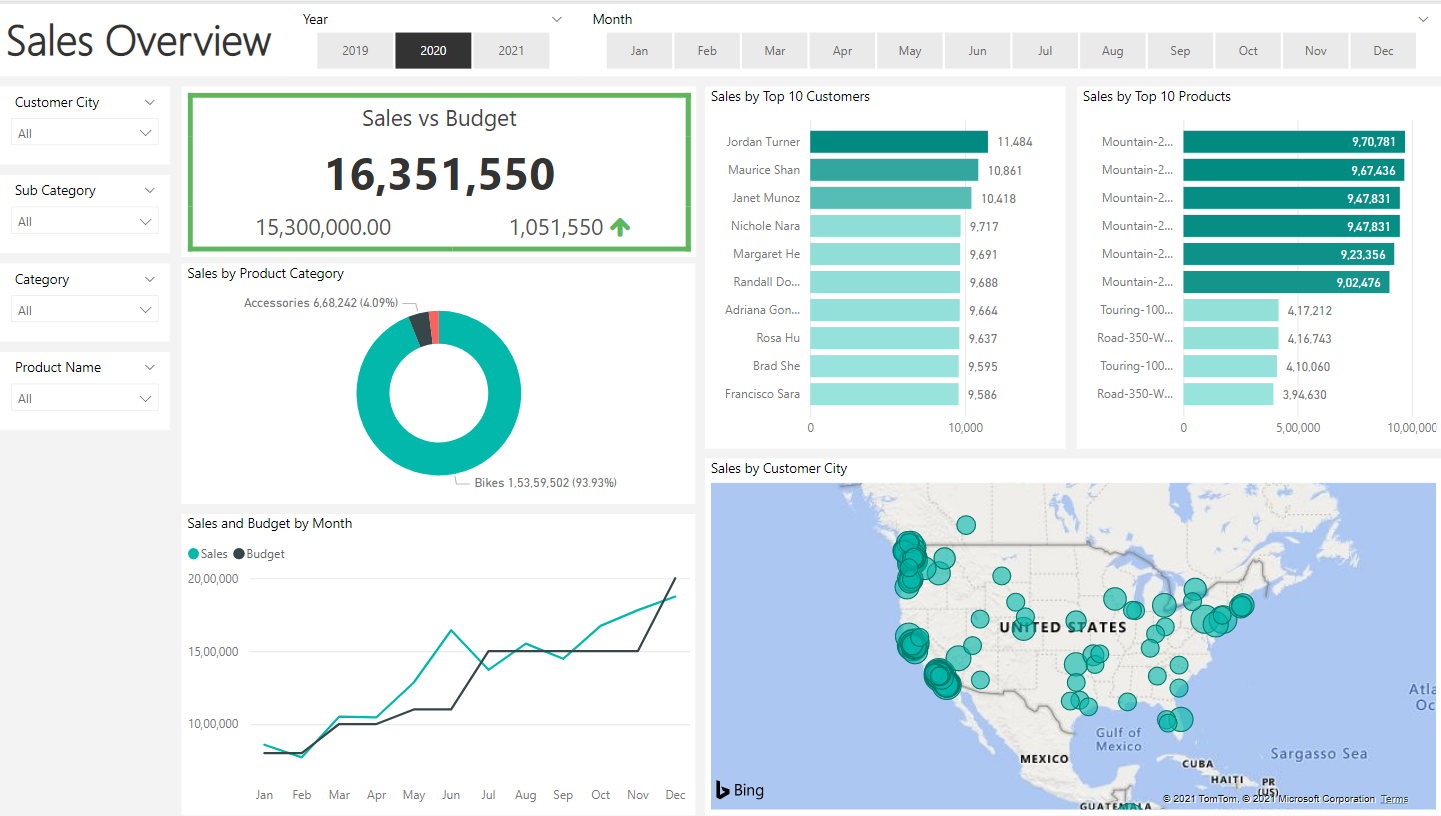

Layout of this report page (visuals, bound fields, positions):
{"tool":"powerbi","page":{"name":"Sales Overview","canvas":[1280,720],"ordinal":0},"visuals":[{"type":"textbox","box":[0,0,1280,64],"z":0},{"type":"slicer","fields":{"Values":["DIM_Calendar.Year"]},"box":[256,0,256,64],"z":1000},{"type":"slicer","fields":{"Values":["DIM_Calendar.MonthShort"]},"box":[512,0,768,64],"z":2000},{"type":"slicer","fields":{"Values":["DIM_Customers.Customer City"]},"box":[0,73,150.5,69.3],"z":3000},{"type":"slicer","fields":{"Values":["DIM_Products.Product Category"]},"box":[0,229.9,150.5,69.3],"z":4000},{"type":"slicer","fields":{"Values":["DIM_Products.Product Name"]},"box":[0,308.4,150.5,69.3],"z":5000},{"type":"slicer","fields":{"Values":["DIM_Products.Sub Category"]},"box":[0,151.4,150.5,69.3],"z":6000},{"type":"barChart","title":"Sales by Top 10 Products","fields":{"Category":["DIM_Products.Product Name"],"Y":["Analysis Metrics.Sales"]},"box":[955.2,73,324.8,321.1],"z":7000},{"type":"lineChart","fields":{"Category":["DIM_Calendar.MonthShort"],"Y":["Analysis Metrics.Sales","Analysis Metrics.Budget"]},"box":[160.7,452.8,456.3,267.2],"z":8000},{"type":"barChart","title":"Sales by Top 10 Customers","fields":{"Category":["DIM_Customers.Full Name"],"Y":["Analysis Metrics.Sales"]},"box":[625.9,73,320.2,321.1],"z":9000},{"type":"donutChart","fields":{"Y":["Analysis Metrics.Sales"],"Series":["DIM_Products.Product Category"]},"box":[160.6,229.9,456.2,213.5],"z":10000},{"type":"map","fields":{"Category":["DIM_Customers.Customer City"],"Size":["Analysis Metrics.Sales"]},"box":[625.9,403.3,654.1,316.6],"z":12000},{"type":"BBED0A4D4D8D44CE93CF2DAFADEE466C","fields":{"actual":["Analysis Metrics.Sales"],"target2":["Analysis Metrics.Sales / Budget"],"target1":["Analysis Metrics.Budget"]},"box":[160.5,73.4,456.6,151.3],"z":13001}]}

Visuals, with their boxes in screenshot pixels (x1, y1, x2, y2), scaled from the page's 1280x720 canvas onto the 1441x816 screenshot:
textbox: select_region(0, 0, 1440, 73)
slicer - DIM_Calendar.Year: select_region(288, 0, 576, 73)
slicer - DIM_Calendar.MonthShort: select_region(576, 0, 1440, 73)
slicer - DIM_Customers.Customer City: select_region(0, 83, 169, 161)
slicer - DIM_Products.Product Category: select_region(0, 261, 169, 339)
slicer - DIM_Products.Product Name: select_region(0, 350, 169, 428)
slicer - DIM_Products.Sub Category: select_region(0, 172, 169, 250)
"Sales by Top 10 Products" barChart: select_region(1075, 83, 1440, 447)
lineChart - DIM_Calendar.MonthShort x Analysis Metrics.Sales: select_region(181, 513, 695, 815)
"Sales by Top 10 Customers" barChart: select_region(705, 83, 1065, 447)
donutChart - Analysis Metrics.Sales x DIM_Products.Product Category: select_region(181, 261, 694, 503)
map - DIM_Customers.Customer City x Analysis Metrics.Sales: select_region(705, 457, 1440, 815)
BBED0A4D4D8D44CE93CF2DAFADEE466C - Analysis Metrics.Sales x Analysis Metrics.Sales / Budget: select_region(181, 83, 695, 255)
